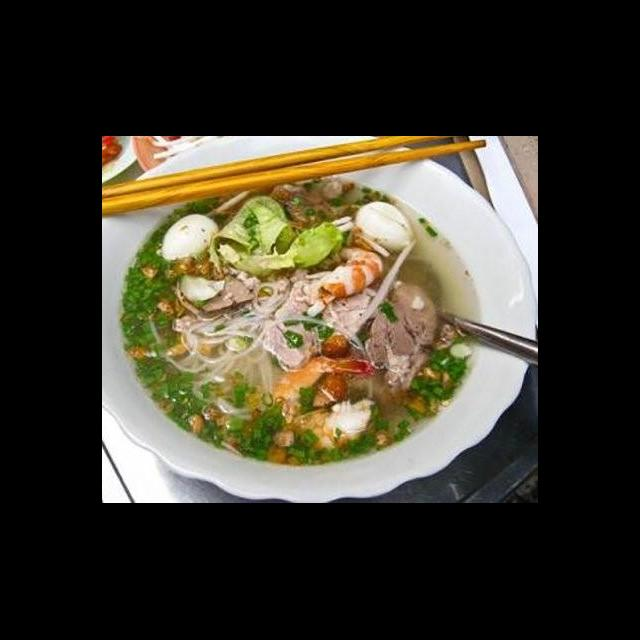banh hu tieu: (149, 282, 304, 421)
gan: (363, 272, 445, 398)
hu tieu: (112, 169, 494, 504)
thit heo: (256, 266, 380, 372)
tom: (266, 348, 383, 456), (308, 238, 388, 302)
trung: (348, 198, 419, 256), (157, 208, 222, 270)
